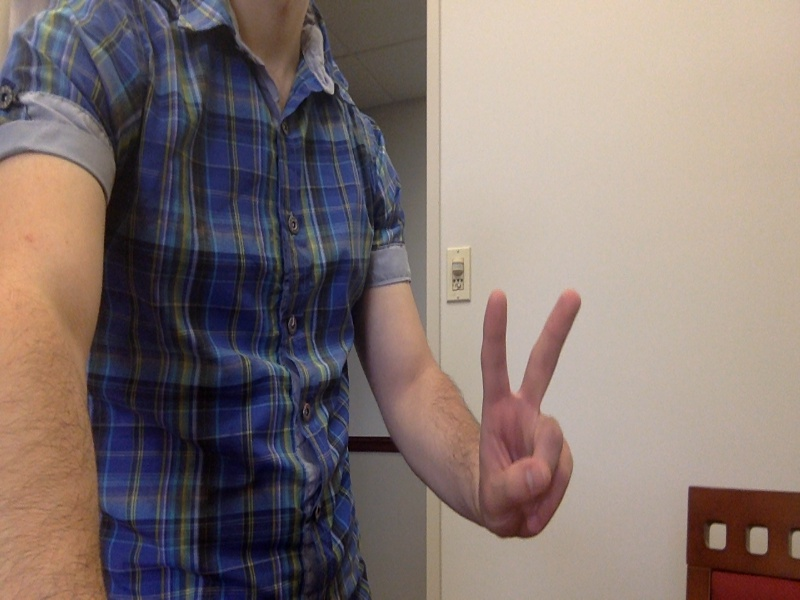2-hand: (477, 291, 594, 543)
